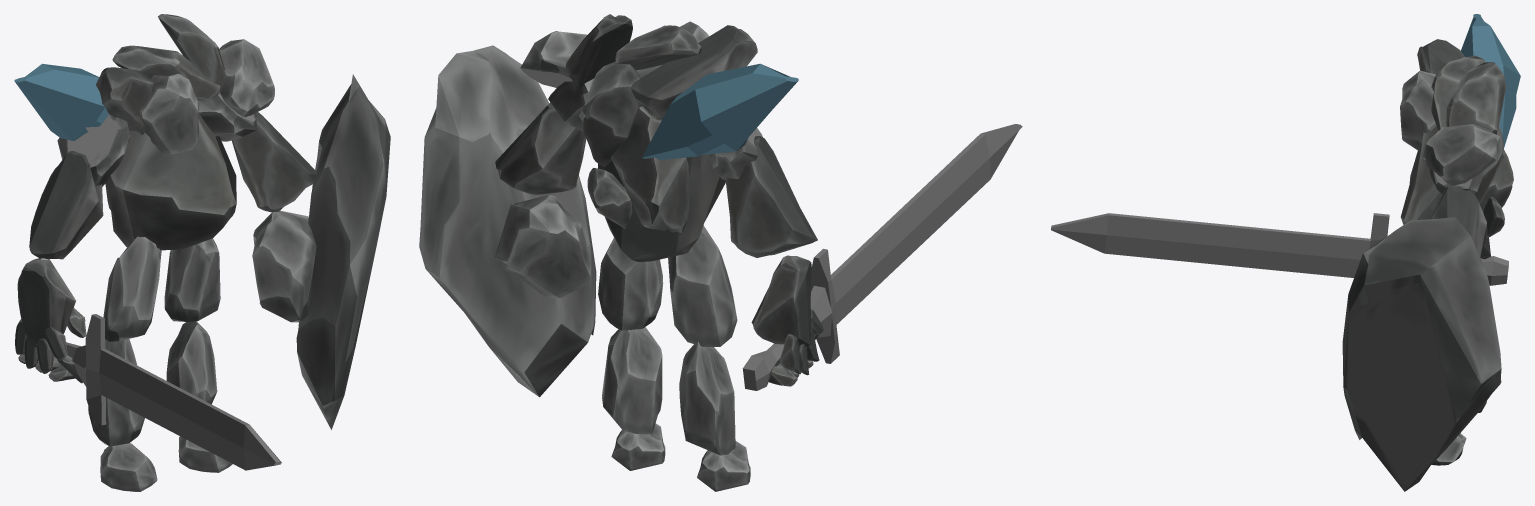
File: stoneGiantSeparated.fbx
3 views of the same model, side by side, from view 1: azimuth 30°, elevation 25°; view 2: azimuth 150°, elevation 25°; view 3: azimuth 270°, elevation 25° (orthographic). The views are drawn at different scales.
Visible parts, largest first — view 1: L Arm, Torso, R Arm, Sword, R Leg, L Leg, Head; view 2: L Arm, Torso, R Arm, Sword, R Leg, L Leg; view 3: L Arm, Sword, Torso, Head, L Leg.
Boxes of the visible parts, <box> form: L Arm: <box>197,39,390,429</box>; Torso: <box>14,14,236,250</box>; R Arm: <box>15,114,129,383</box>; Sword: <box>55,314,281,470</box>; R Leg: <box>88,236,161,491</box>; L Leg: <box>164,238,232,472</box>; Head: <box>139,74,198,155</box>; L Arm: <box>419,31,596,397</box>; Torso: <box>565,14,798,261</box>; R Arm: <box>708,128,823,386</box>; Sword: <box>742,124,1022,390</box>; R Leg: <box>668,225,750,491</box>; L Leg: <box>598,238,665,470</box>; L Arm: <box>1342,124,1501,491</box>; Sword: <box>1051,213,1508,285</box>; Torso: <box>1400,14,1520,259</box>; Head: <box>1400,70,1436,150</box>; L Leg: <box>1431,401,1486,465</box>.
Size of the model in its own units: 323 by 379 by 413.
